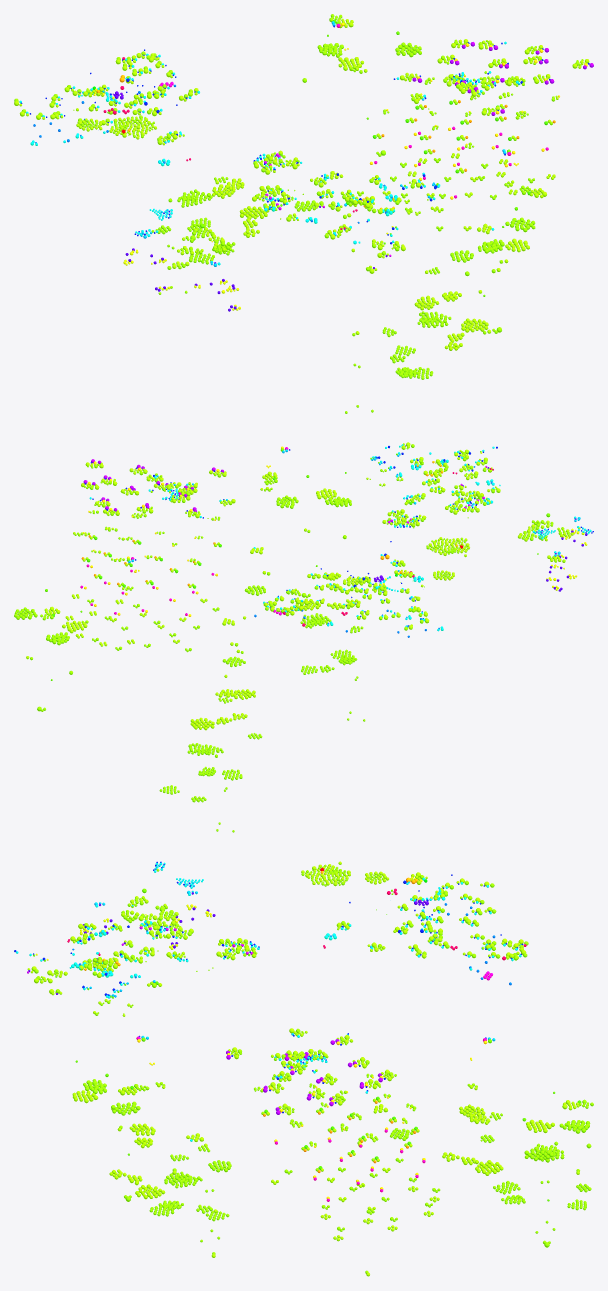
File: task-4994c8f44-layout.gltf
3 views of the same model, one above another, from view 1: azimuth 30°, elevation 25°; view 2: azimuth 150°, elevation 25°; view 3: azimuth 270°, elevation 25° (orthographic). The views are drawn at different scales.
Parts seen in each view (by area): view 1: normal_c_files, normal_h_files, normal_no_ext_files, normal_md_files; view 2: normal_c_files, normal_h_files, normal_no_ext_files; view 3: normal_c_files, normal_h_files, normal_no_ext_files, normal_md_files.
Boxes of the visible parts, x1,y1,x2,y2 form: normal_c_files: (14, 18, 589, 350); normal_h_files: (14, 14, 583, 413); normal_no_ext_files: (19, 41, 518, 265); normal_md_files: (20, 25, 589, 244); normal_c_files: (26, 442, 573, 752); normal_h_files: (14, 444, 580, 832); normal_no_ext_files: (89, 444, 591, 626); normal_c_files: (27, 861, 579, 1276); normal_h_files: (32, 864, 593, 1273); normal_no_ext_files: (16, 862, 521, 1141); normal_md_files: (14, 861, 523, 1113).
Bounding box in the file's own units: 435 × 236 × 423.
